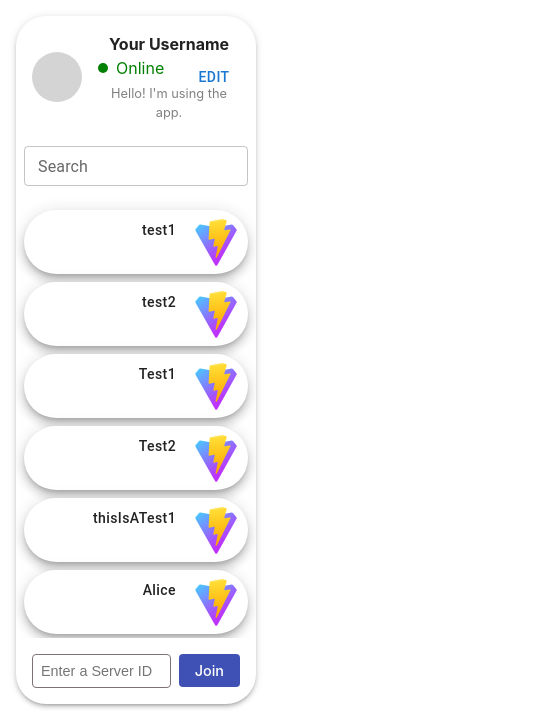
Scenario: ServerList Component › Adding a new channel works
// First select a server to show channels
Click the list item "test1" at coordinates (136, 242), box [16, 210, 256, 274]
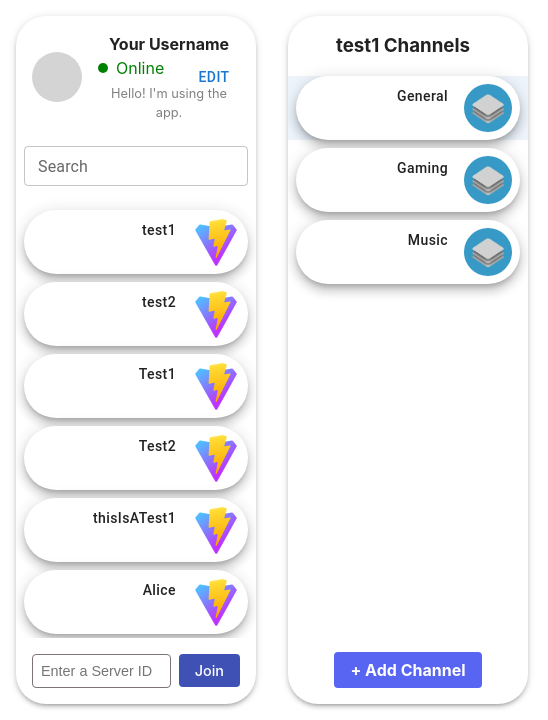
// Find and click the Add Channel button
Click the button "+ Add Channel" at coordinates (408, 670), box [334, 652, 482, 688]
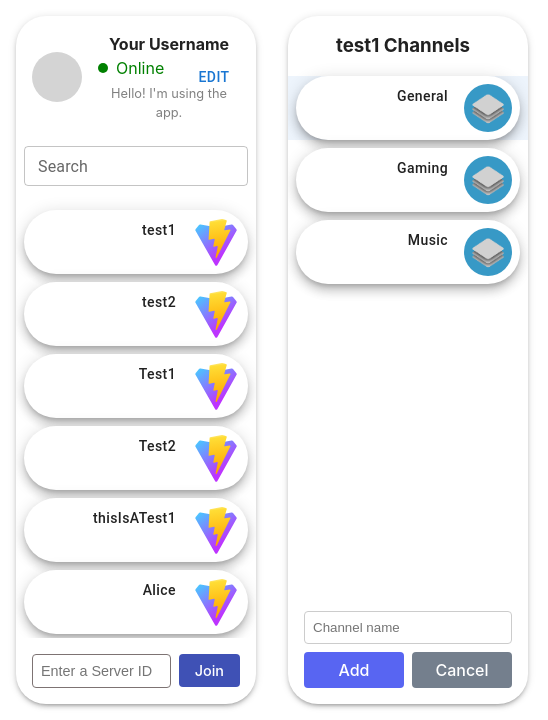
// Find the channel input and add a new channel
Type "New Channel" into the field with placeholder "Channel name" at coordinates (408, 628), box [304, 611, 512, 644]
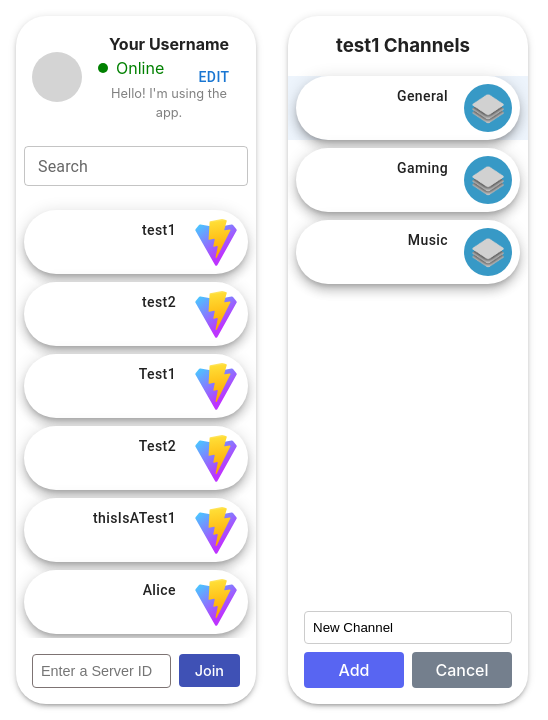
// Submit the form
Click the button "Add" at coordinates (354, 670), box [304, 652, 404, 688]
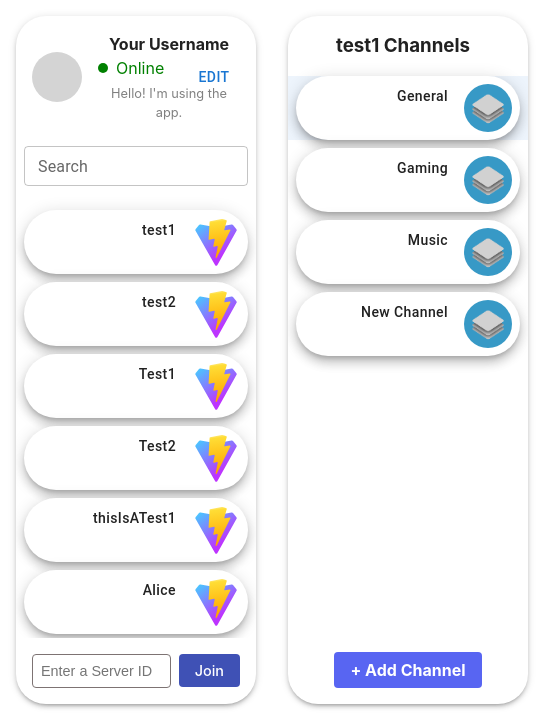
Result: the text "New Channel" is shown at [361, 304, 448, 320]
